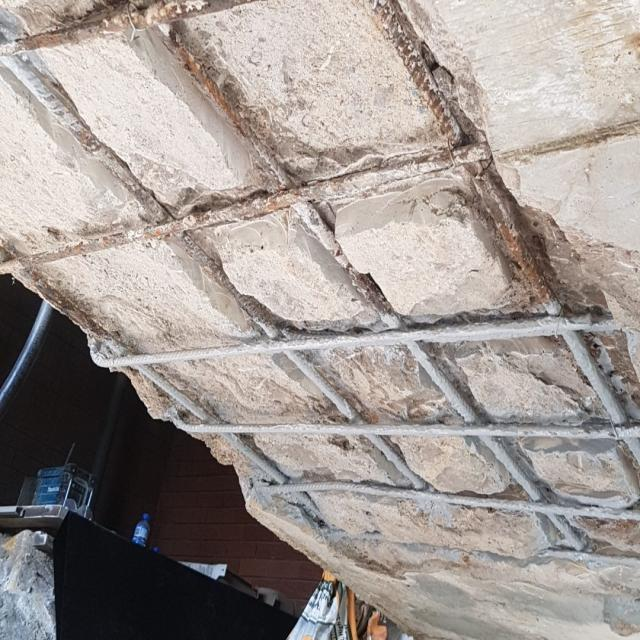stain_mould: (0, 0, 491, 278), (368, 0, 559, 311)
